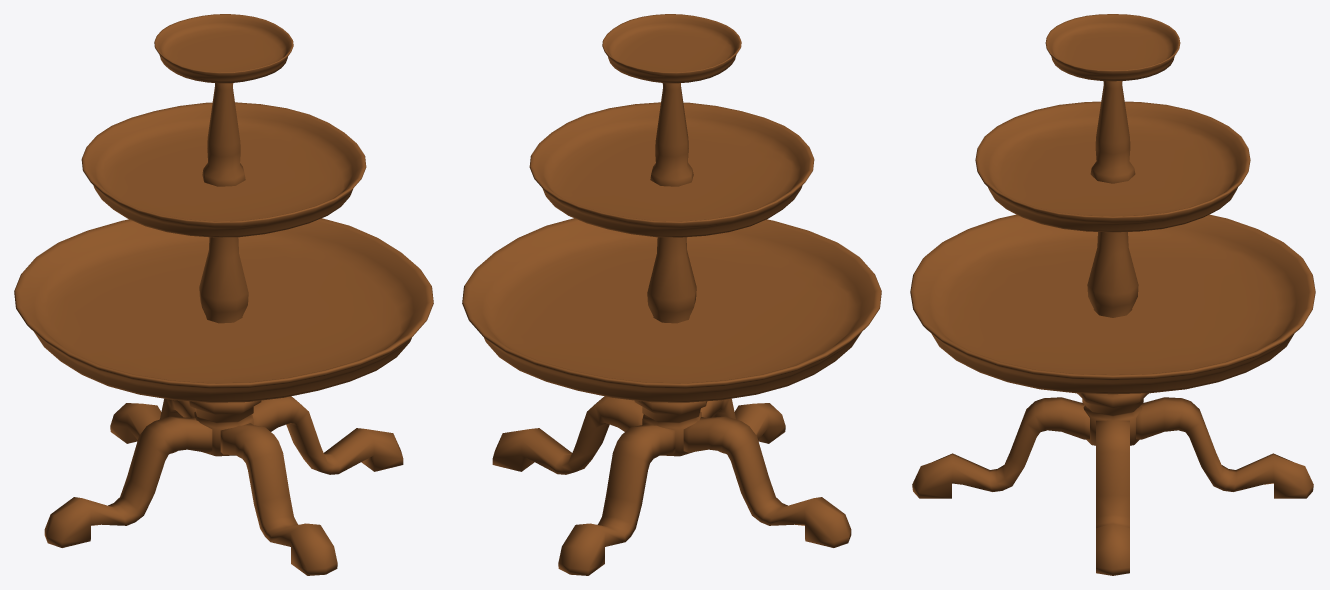
The model's file is TableDeco.glb.
3 views of the same model, side by side, from view 1: azimuth 30°, elevation 25°; view 2: azimuth 150°, elevation 25°; view 3: azimuth 270°, elevation 25° (orthographic).
Parts seen in each view (by area): view 1: S_TableDeco_low; view 2: S_TableDeco_low; view 3: S_TableDeco_low.
Boxes of the visible parts, x1,y1,x2,y2 form: S_TableDeco_low: (14, 14, 433, 575); S_TableDeco_low: (462, 14, 881, 575); S_TableDeco_low: (910, 14, 1315, 575).
Size of the model in its own units: 0.5876 by 0.7181 by 0.5876.
